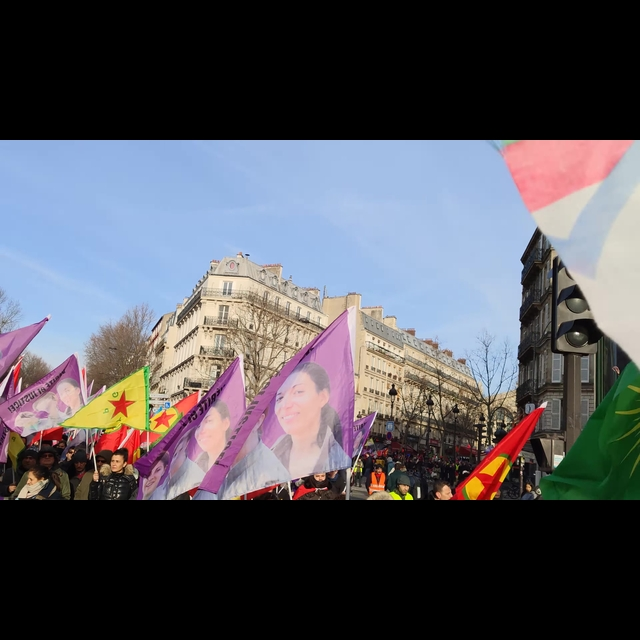YPG: (60, 366, 152, 434)
